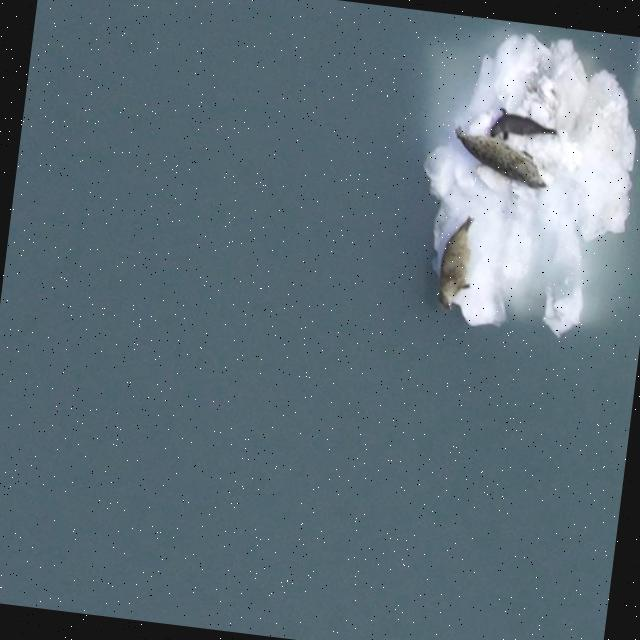seal: (446, 120, 557, 195), (435, 212, 475, 313), (487, 105, 560, 160)
